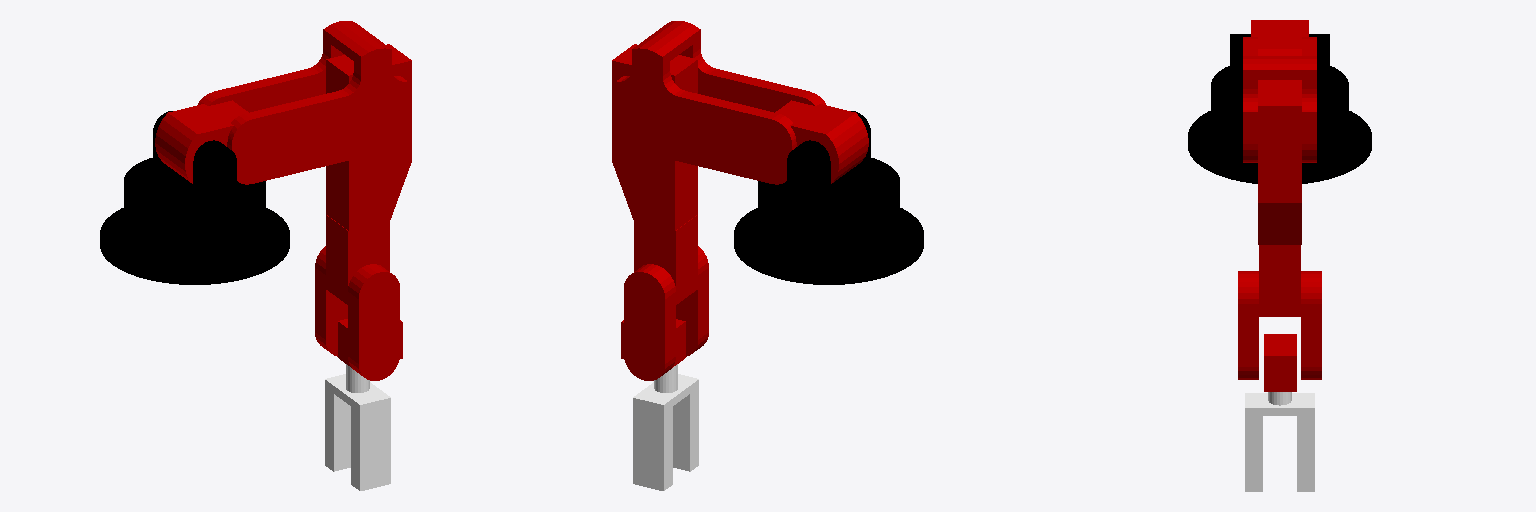
robot.urdf — kuka_lwr:
<?xml version="1.0" encoding="utf-8"?>
<!-- =================================================================================== -->
<!-- |    This document was autogenerated by xacro from fred.xacro                     | -->
<!-- |    EDITING THIS FILE BY HAND IS NOT RECOMMENDED                                 | -->
<!-- =================================================================================== -->
<robot name="kuka_lwr" xmlns:xacro="http://www.ros.org/wiki/xacro">
  <!-- right is either 1 (for right arm) or -1 (for left arm) -->
  <material name="black">
    <color rgba="0 0 0 1"/>
  </material>
  <material name="white">
    <color rgba="1 1 1 1"/>
  </material>
  <material name="red">
    <color rgba="0.8 0 0 1"/>
  </material>
  <link name="base_link">
    <inertial>
      <origin rpy="0 0 0" xyz="0 0 0"/>
      <mass value=".0"/>
      <inertia ixx="0" ixy="0" ixz="0" iyy="0" iyz="0" izz="0"/>
    </inertial>
    <visual>
      <origin rpy="0 0 0" xyz="-0.08 -0.08 0"/>
      <geometry>
        <mesh filename="meshes_fred/base.stl" scale="0.001 0.001 0.001"/>
      </geometry>
      <material name="black"/>
    </visual>
  </link>
  <link name="base_plate">
    <inertial>
      <mass value="0.05"/>
      <origin rpy="0 0 0" xyz="0 0.09 0.0"/>
      <inertia ixx="4.50666666667e-05" ixy="0" ixz="0" iyy="9e-05" iyz="0" izz="4.50666666667e-05"/>
    </inertial>
    <visual>
      <origin rpy="0 0 0" xyz="-0.06 -0.06 0"/>
      <geometry>
        <mesh filename="meshes_fred/base_plate.stl" scale="0.001 0.001 0.001"/>
      </geometry>
      <material name="black"/>
    </visual>
  </link>
  <joint name="base_to_base_plate" type="revolute">
    <limit effort="1000.0" lower="0.0" upper="3.14159265359" velocity="10"/>
    <parent link="base_link"/>
    <child link="base_plate"/>
    <origin rpy="0 0 -1.57079632679" xyz="0 0 0.0545"/>
    <axis xyz="0 0 1"/>
  </joint>
  <link name="arm_lower">
    <inertial>
      <mass value="0.2"/>
      <origin rpy="0 0 0" xyz="0 0.09 0.0"/>
      <inertia ixx="0.0006" ixy="0" ixz="0" iyy="0.00012" iyz="0" izz="0.0006"/>
    </inertial>
    <visual>
      <origin rpy="0 1.57079632679 0" xyz="-0.032 -0.0243 0.030"/>
      <geometry>
        <mesh filename="meshes_fred/arm_lower.stl" scale="0.001 0.001 0.001"/>
      </geometry>
      <material name="red"/>
    </visual>
    <collision>
      <origin rpy="0 1.57079632679 0" xyz="-0.032 -0.0243 0.030"/>
      <geometry>
        <mesh filename="meshes_fred/arm_lower_col.stl" scale="0.001 0.001 0.001"/>
      </geometry>
    </collision>
  </link>
  <joint name="base_plate_to_arm_lower" type="revolute">
    <limit effort="1000.0" lower="0.0" upper="3.14159265359" velocity="10"/>
    <parent link="base_plate"/>
    <child link="arm_lower"/>
    <origin rpy="3.14159265359 0 3.14159265359" xyz="0 0 0.036"/>
    <axis xyz="-1 0 0"/>
  </joint>
  <link name="arm_upper">
    <inertial>
      <mass value="0.3"/>
      <origin rpy="0 0 0" xyz="0.0 0.03 -0.01"/>
      <inertia ixx="0.00045" ixy="0" ixz="0" iyy="0.00013" iyz="0" izz="0.0004"/>
    </inertial>
    <visual>
      <origin rpy="0 3.14159265359 0" xyz="0.019 -0.0415 0.02"/>
      <geometry>
        <mesh filename="meshes_fred/arm_upper.stl" scale="0.001 0.001 0.001"/>
      </geometry>
      195
      
      <material name="red"/>
    </visual>
    <collision>
      <origin rpy="0 3.14159265359 0" xyz="0.019 -0.0415 0.02"/>
      <geometry>
        <mesh filename="meshes_fred/arm_upper.stl" scale="0.001 0.001 0.001"/>
      </geometry>
      195
   
    </collision>
  </link>
  <joint name="arm_lower_to_arm_upper" type="revolute">
    <limit effort="1000.0" lower="-1.57079632679" upper="3.14159265359" velocity="10"/>
    <parent link="arm_lower"/>
    <child link="arm_upper"/>
    <origin rpy="1.57079632679 0 0" xyz="0 0.158 0"/>
    <axis xyz="-1 0 0"/>
  </joint>
  <link name="wrist">
    <inertial>
      <mass value="0.1"/>
      <origin rpy="0 0 0" xyz="0.0 0.065 0.0"/>
      <inertia ixx="0.000133333333333" ixy="0" ixz="0" iyy="5.41666666667e-05" iyz="0" izz="0.000160833333333"/>
    </inertial>
    <visual>
      <origin rpy="0 0 0" xyz="-0.036625 0 -0.02"/>
      <geometry>
        <mesh filename="meshes_fred/wrist.stl" scale="0.001 0.001 0.001"/>
      </geometry>
      <material name="red"/>
    </visual>
    <collision>
      <origin rpy="0 0 0" xyz="-0.036625 0 -0.02"/>
      <geometry>
        <mesh filename="meshes_fred/wrist.stl" scale="0.001 0.001 0.001"/>
      </geometry>
    </collision>
  </link>
  <joint name="arm_upper_to_wrist" type="continuous">
    <parent link="arm_upper"/>
    <child link="wrist"/>
    <origin xyz="0 0.102 0"/>
    <axis xyz="0 1 0"/>
  </joint>
  <link name="wrist_servo">
    <inertial>
      <mass value="0.04"/>
      <origin rpy="0 0 0" xyz="0.0 0.0 -0.015"/>
      <inertia ixx="0.00030675" ixy="0" ixz="0" iyy="9.75e-06" iyz="0" izz="0.000303"/>
    </inertial>
    <visual>
      <origin rpy="0 0 1.57079632679" xyz="0.0145 -0.017 -0.03525"/>
      <geometry>
        <mesh filename="meshes_fred/servo.stl" scale="0.001 0.001 0.001"/>
      </geometry>
      <material name="red"/>
    </visual>
    <collision>
      <origin rpy="0 0 1.57079632679" xyz="0.0145 -0.017 -0.03525"/>
      <geometry>
        <mesh filename="meshes_fred/servo.stl" scale="0.001 0.001 0.001"/>
      </geometry>
    </collision>
  </link>
  <joint name="wrist_to_wrist_servo" type="continuous">
    <parent link="wrist"/>
    <child link="wrist_servo"/>
    <origin xyz="0 0.11625 0"/>
    <axis xyz="-1 0 0"/>
  </joint>
  <link name="gripper">
    <inertial>
      <mass value="0.01"/>
      <origin rpy="0 0 0" xyz="0.0 0.038 0.0"/>
      <inertia ixx="5.4375e-06" ixy="0" ixz="0" iyy="3.75e-06" iyz="0" izz="7.6875e-06"/>
    </inertial>
    <visual>
      <origin rpy="-1.57079632679 0 0" xyz="-0.03 0 0.015"/>
      <geometry>
        <mesh filename="meshes_fred/gripper.stl" scale="0.001 0.001 0.001"/>
      </geometry>
      <material name="white"/>
    </visual>
    <collision>
      <origin rpy="-1.57079632679 0 0" xyz="-0.03 0 0.015"/>
      <geometry>
        <mesh filename="meshes_fred/gripper.stl" scale="0.001 0.001 0.001"/>
      </geometry>
    </collision>
  </link>
  <joint name="wrist_servo_to_gripper" type="continuous">
    <parent link="wrist_servo"/>
    <child link="gripper"/>
    <origin xyz="0 0.017 0"/>
    <axis xyz="0 1 0"/>
  </joint>
</robot>

--- Render facts (derived) ---
3 views of the same robot in one strip: view 1: azimuth 30°, elevation 25°; view 2: azimuth 150°, elevation 25°; view 3: azimuth 270°, elevation 25° (orthographic).
Robot: kuka_lwr — 7 links, 6 joints (3 revolute, 3 continuous); root link base_link; default pose: every joint at zero.
Visible links, largest first — view 1: arm_lower, base_link, wrist, arm_upper, gripper, base_plate, wrist_servo; view 2: arm_lower, base_link, wrist, arm_upper, gripper, base_plate, wrist_servo; view 3: wrist, arm_upper, base_link, arm_lower, gripper, base_plate, wrist_servo.
Boxes of the visible links, x1,y1,x2,y2 form: arm_lower: [155, 21, 407, 184]; base_link: [100, 190, 289, 284]; wrist: [315, 215, 399, 380]; arm_upper: [326, 44, 411, 230]; gripper: [325, 364, 390, 490]; base_plate: [124, 111, 265, 215]; wrist_servo: [338, 319, 402, 367]; arm_lower: [616, 21, 868, 184]; base_link: [734, 190, 923, 284]; wrist: [624, 215, 708, 380]; arm_upper: [612, 44, 697, 230]; gripper: [633, 364, 698, 490]; base_plate: [758, 111, 899, 215]; wrist_servo: [621, 319, 685, 367]; wrist: [1238, 245, 1321, 379]; arm_upper: [1258, 80, 1301, 244]; base_link: [1188, 93, 1371, 183]; arm_lower: [1243, 20, 1316, 162]; gripper: [1245, 392, 1314, 491]; base_plate: [1211, 34, 1348, 113]; wrist_servo: [1264, 334, 1296, 391].
Bounding box of the posed robot: 0.2795 × 0.1596 × 0.407 m (x, y, z).
7 mesh visuals loaded from 7 distinct referenced files (7 binary STL).
